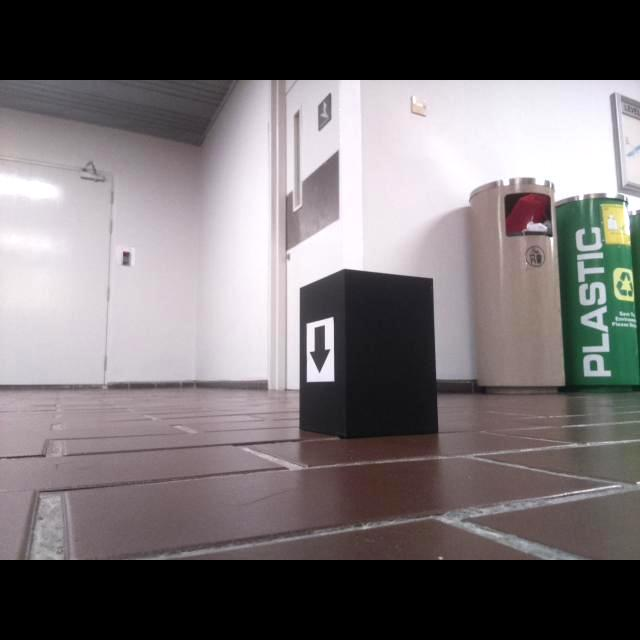DOWN: (308, 324, 332, 375)
